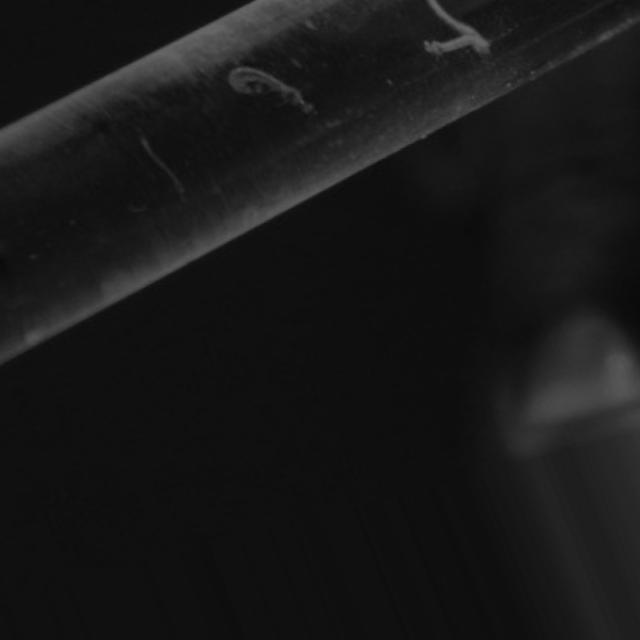larvas: (227, 65, 314, 119), (141, 141, 187, 197), (428, 0, 478, 39), (425, 38, 486, 53)
